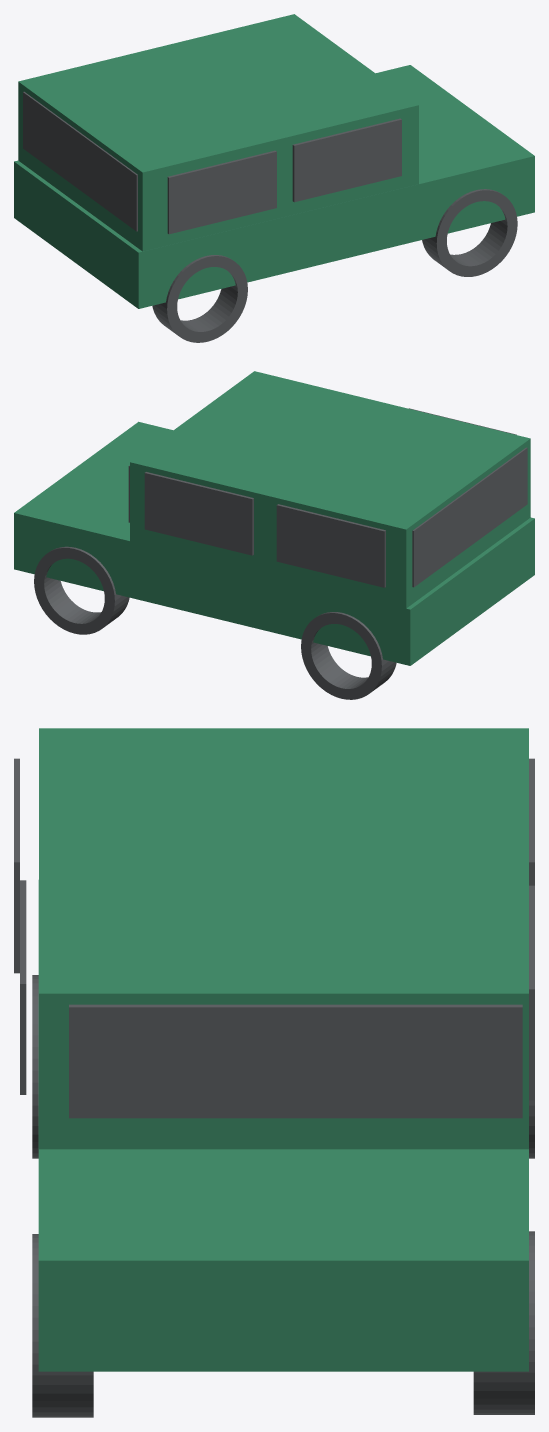
File: cocheVerdeCubo.glb
3 views of the same model, one above another, from view 1: azimuth 30°, elevation 25°; view 2: azimuth 150°, elevation 25°; view 3: azimuth 270°, elevation 25° (orthographic). The views are drawn at different scales.
Parts seen in each view (by area): view 1: Mesh_Mesh_head_geo.001_lambert2SG.001; view 2: Mesh_Mesh_head_geo.001_lambert2SG.001; view 3: Mesh_Mesh_head_geo.001_lambert2SG.001.
Boxes of the visible parts, x1,y1,x2,y2 form: Mesh_Mesh_head_geo.001_lambert2SG.001: (14, 14, 534, 342); Mesh_Mesh_head_geo.001_lambert2SG.001: (14, 371, 534, 699); Mesh_Mesh_head_geo.001_lambert2SG.001: (14, 728, 534, 1417).
Size of the model in its own units: 0.147 by 0.065 by 0.085.
